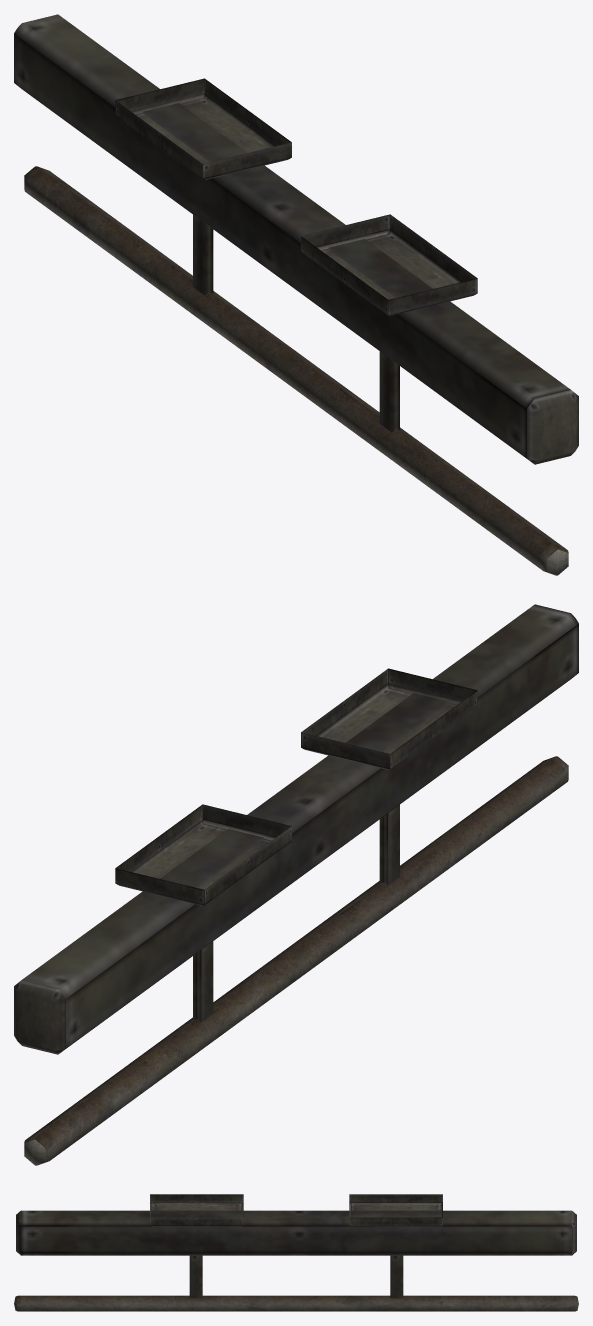
File: 01_01_ceiling_railing.dae
The picture shows the model from 3 angles, top to bottom: view 1: azimuth 30°, elevation 25°; view 2: azimuth 150°, elevation 25°; view 3: azimuth 270°, elevation 25°; orthographic projection. The views are drawn at different scales.
Visible parts, largest first — view 1: polySurface666, polySurface665; view 2: polySurface666, polySurface665; view 3: polySurface666, polySurface665.
Part boxes in pixels (x1,y1,x2,y2): polySurface666: (14,14,578,464); polySurface665: (24,166,568,575); polySurface666: (14,604,578,1054); polySurface665: (24,756,568,1165); polySurface666: (16,1194,576,1298); polySurface665: (14,1295,578,1311).
Bounding box in the file's own units: 40.15 × 84.63 × 410.
